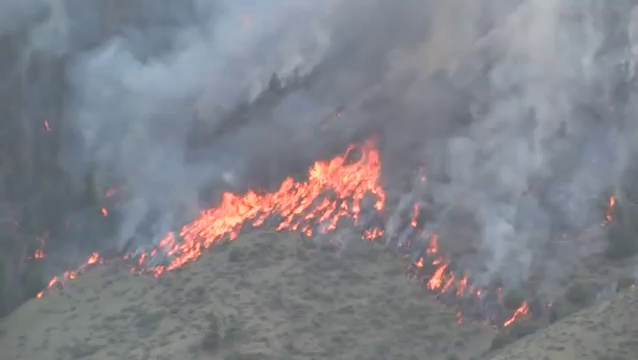fire: (161, 151, 382, 268), (430, 265, 446, 286), (89, 252, 96, 263)
